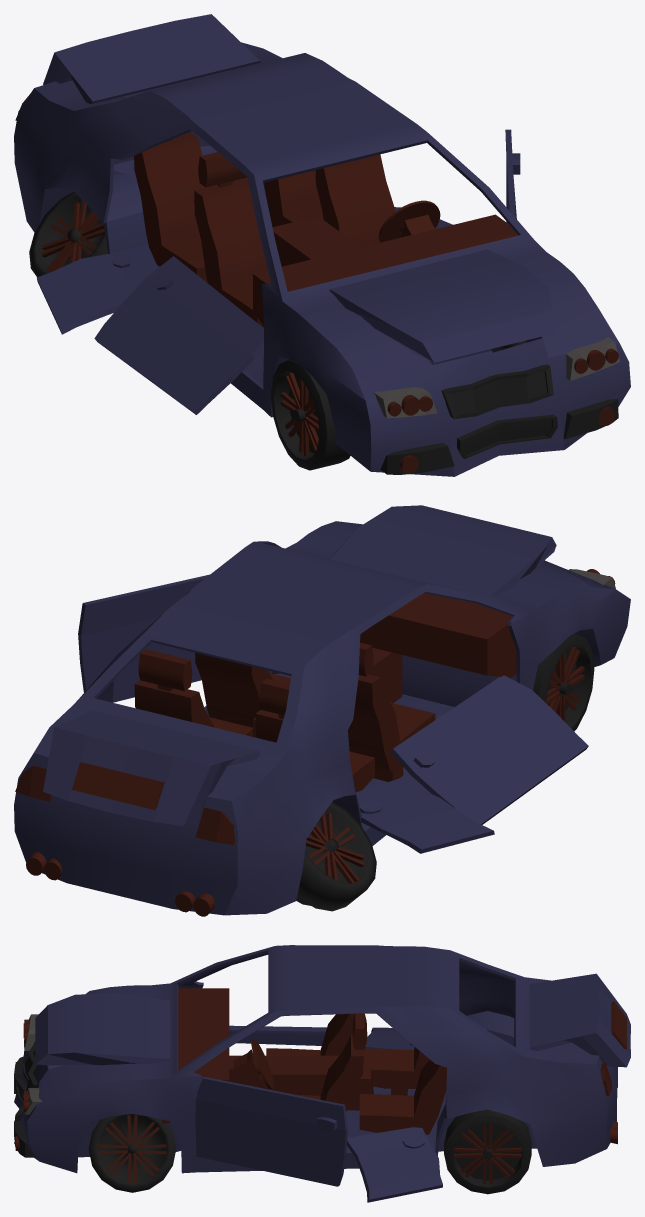
Rendered from D_audis4destroyed.fbx.
3 renders of one model, top to bottom at view 1: azimuth 30°, elevation 25°; view 2: azimuth 150°, elevation 25°; view 3: azimuth 270°, elevation 25°, orthographic. The views are drawn at different scales.
Parts seen in each view (by area): view 1: Cube.044, Cube.041, Cube.021, Cube.036, Cube.029, Cube.028, Cube.025, Cube.023, Cube.030, Cube.045, Cylinder.024, Cube.043 (+10 smaller); view 2: Cube.044, Cube.021, Cube.036, Cube.041, Cube.025, Cube.035, Cube.045, Cube.023, Cube.029, Cube.026, Cube.030, Cylinder.024 (+6 smaller); view 3: Cube.044, Cube.035, Cube.041, Cube.036, Cube.046, Cube.034, Cylinder.032, Cube.025, Cube.026, Cube.024, Cube.030, Cube.028 (+8 smaller).
Part boxes in pixels (<box>): Cube.044: <box>14,42,630,476</box>; Cube.041: <box>329,249,557,362</box>; Cube.021: <box>94,256,263,414</box>; Cube.036: <box>43,14,260,104</box>; Cube.029: <box>194,152,267,327</box>; Cube.028: <box>134,132,207,282</box>; Cube.025: <box>253,214,518,326</box>; Cube.023: <box>37,244,157,334</box>; Cube.030: <box>315,154,395,247</box>; Cube.045: <box>29,191,107,277</box>; Cylinder.024: <box>270,359,350,470</box>; Cube.043: <box>441,364,553,419</box>; Cube.044: <box>14,521,630,915</box>; Cube.021: <box>390,675,588,824</box>; Cube.036: <box>43,710,260,825</box>; Cube.041: <box>330,505,556,596</box>; Cube.025: <box>360,593,516,677</box>; Cube.035: <box>78,574,209,702</box>; Cube.045: <box>296,802,376,911</box>; Cube.023: <box>356,775,494,853</box>; Cube.029: <box>348,642,435,781</box>; Cube.026: <box>134,649,252,736</box>; Cube.030: <box>195,653,289,727</box>; Cylinder.024: <box>533,633,594,731</box>; Cube.044: <box>14,945,617,1173</box>; Cube.035: <box>195,1077,347,1186</box>; Cube.041: <box>35,992,170,1065</box>; Cube.036: <box>529,973,630,1067</box>; Cube.046: <box>88,1114,176,1192</box>; Cube.034: <box>347,1127,442,1202</box>; Cylinder.032: <box>444,1109,531,1194</box>; Cube.025: <box>162,988,262,1123</box>; Cube.026: <box>359,1059,446,1134</box>; Cube.024: <box>229,1055,373,1110</box>; Cube.030: <box>295,1013,366,1111</box>; Cube.028: <box>363,973,460,1095</box>.
Size of the model in its own units: 251 by 120 by 399.
